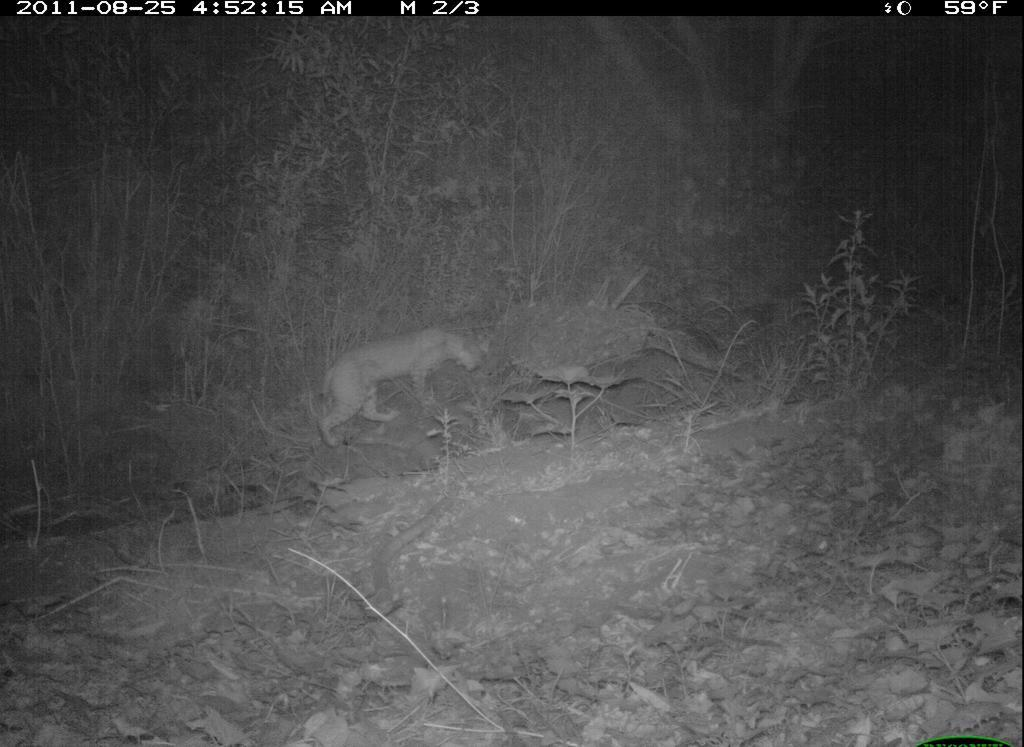bobcat: (309, 323, 491, 455)
